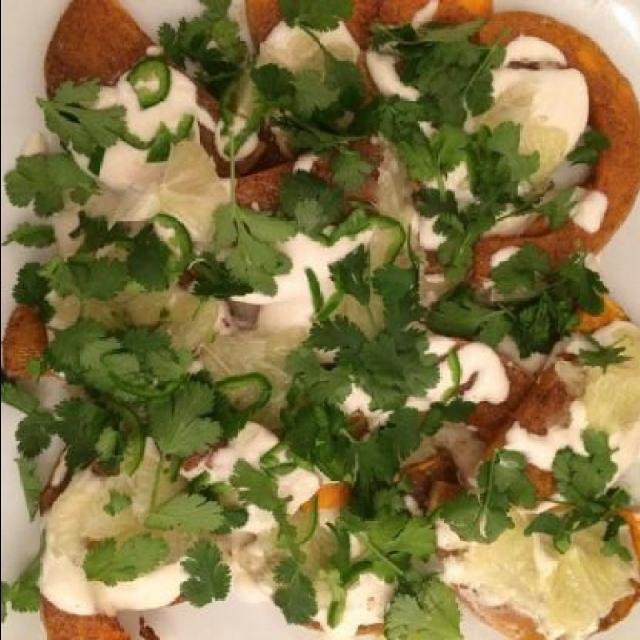Salad: (0, 0, 629, 629)
